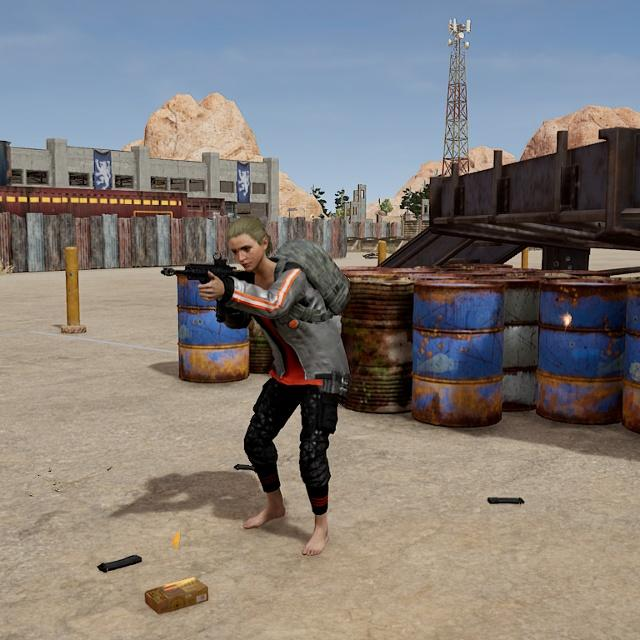head: (225, 213, 272, 274)
people: (203, 213, 346, 558)
